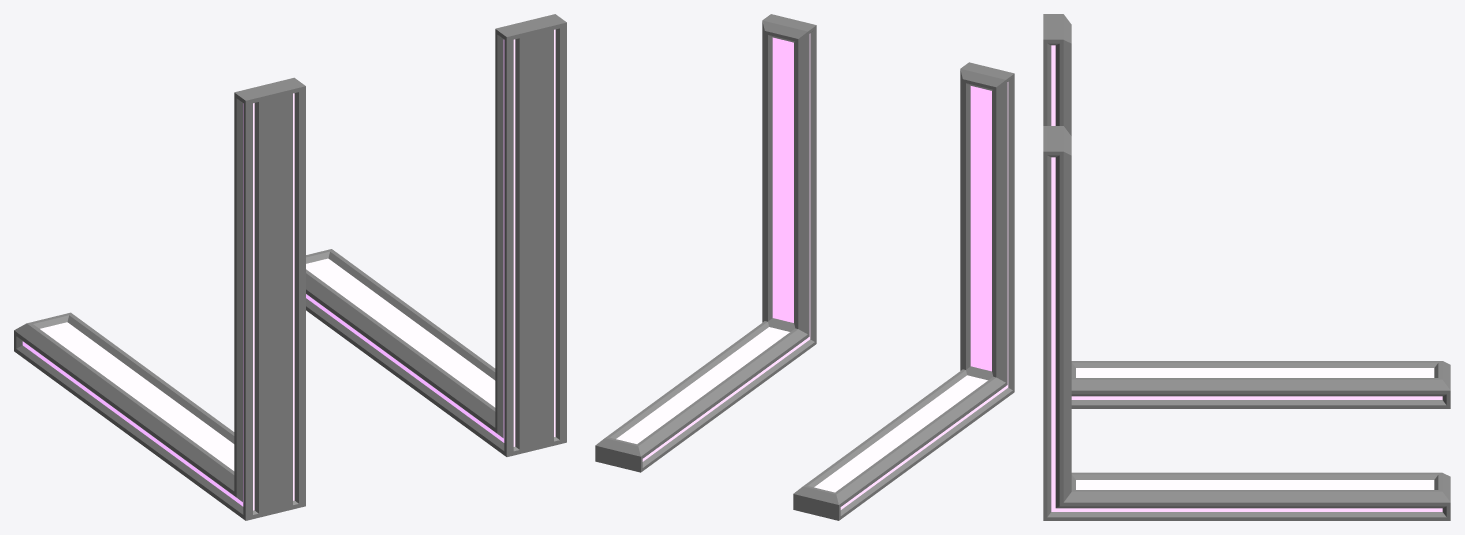
File: RailUp.FBX
3 views of the same model, side by side, from view 1: azimuth 30°, elevation 25°; view 2: azimuth 150°, elevation 25°; view 3: azimuth 270°, elevation 25° (orthographic). The views are drawn at different scales.
Parts seen in each view (by area): view 1: RailUp_high; view 2: RailUp_high; view 3: RailUp_high.
Boxes of the visible parts, left/top/right/bottom form: RailUp_high: left=14, top=14, right=566, bottom=520; RailUp_high: left=595, top=14, right=1014, bottom=520; RailUp_high: left=1043, top=14, right=1450, bottom=520.
Bounding box in the file's own units: 80 × 100 × 100.
